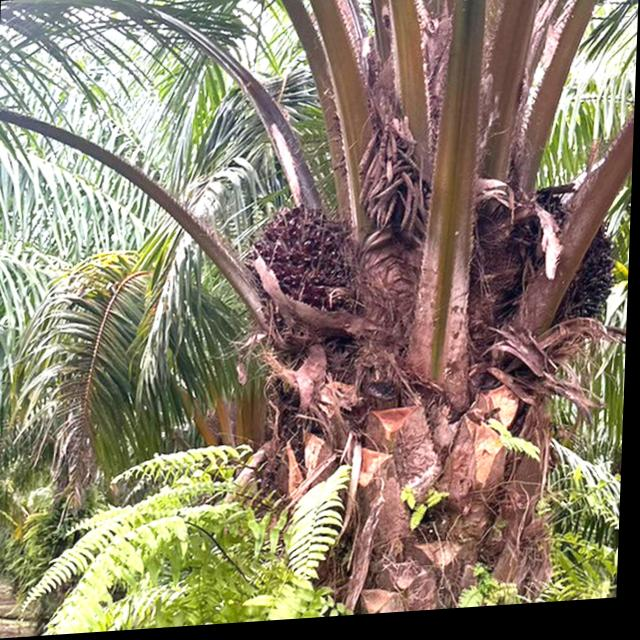ripe: (242, 193, 375, 335)
